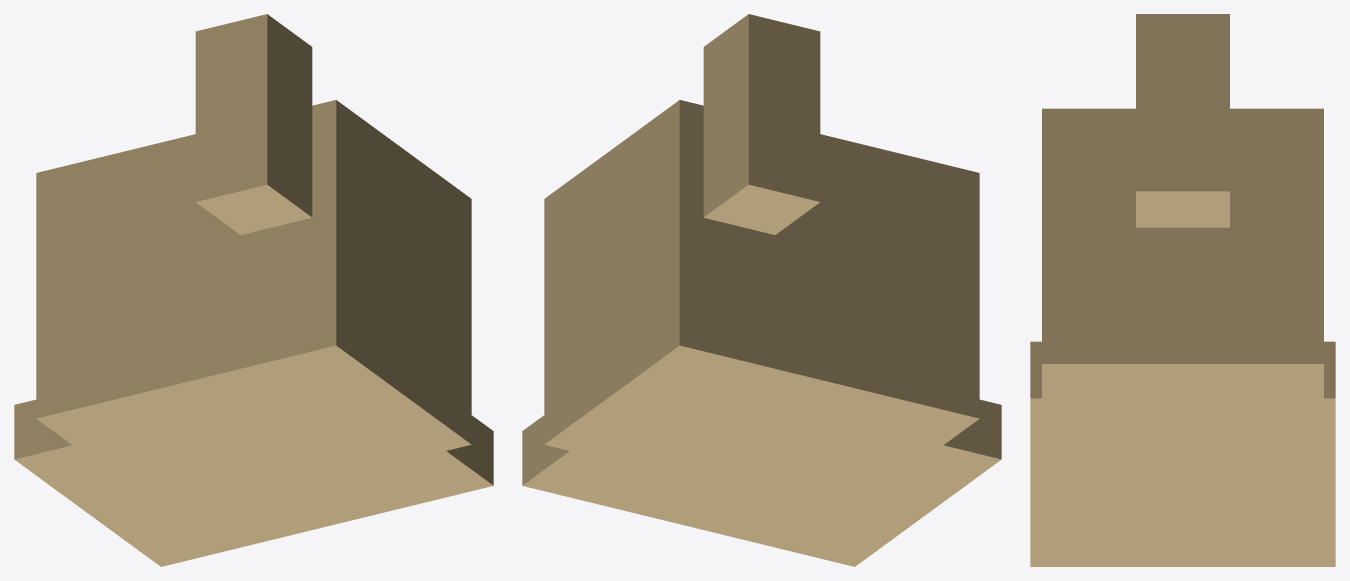
File: helmet.gltf
The picture shows the model from 3 angles, left to right: view 1: azimuth 30°, elevation 25°; view 2: azimuth 150°, elevation 25°; view 3: azimuth 270°, elevation 25°; orthographic projection. The views are drawn at different scales.
Parts seen in each view (by area): view 1: Helmet; view 2: Helmet; view 3: Helmet.
Boxes of the visible parts, x1=… form: Helmet: x1=14, y1=14, x2=493, y2=566; Helmet: x1=522, y1=14, x2=1001, y2=566; Helmet: x1=1030, y1=14, x2=1335, y2=566.
Size of the model in its own units: 1.02 by 1.27 by 0.78.
